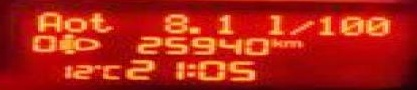-: (184, 25, 200, 34)
0: (195, 59, 222, 80), (27, 33, 54, 52), (338, 15, 363, 35), (363, 15, 387, 35), (241, 36, 268, 53)
1: (314, 15, 333, 35), (214, 12, 230, 33), (170, 60, 184, 79), (59, 63, 70, 77)
2: (122, 59, 152, 79), (133, 35, 160, 54), (70, 63, 92, 77)
4: (214, 37, 241, 53)
5: (225, 60, 255, 81), (160, 36, 184, 53)
8: (160, 12, 184, 32)
9: (187, 36, 214, 53)
X: (32, 9, 59, 32), (86, 11, 111, 32), (284, 19, 314, 35), (60, 16, 87, 31), (265, 14, 282, 35), (97, 63, 119, 78), (282, 38, 301, 47), (184, 62, 195, 76), (268, 36, 282, 46)
